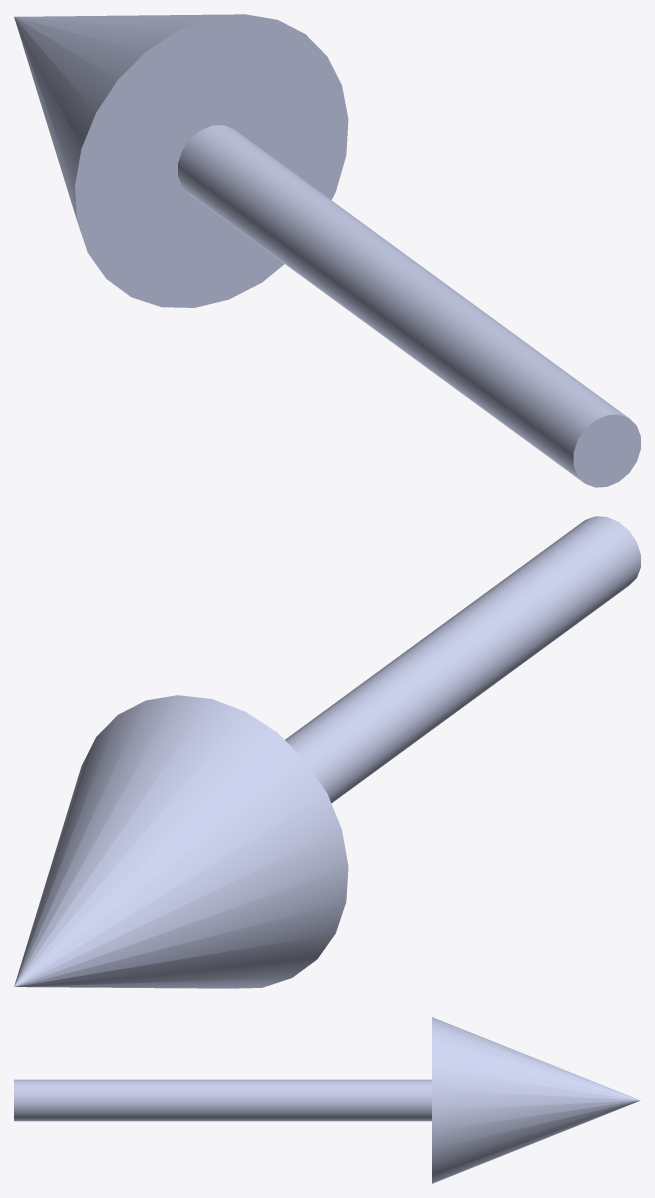
The model's file is ExpArrowEje.FBX.
3 renders of one model, top to bottom at view 1: azimuth 30°, elevation 25°; view 2: azimuth 150°, elevation 25°; view 3: azimuth 270°, elevation 25°, orthographic. The views are drawn at different scales.
Parts seen in each view (by area): view 1: Revolución1; view 2: Revolución1; view 3: Revolución1.
Part boxes in pixels (<box>): Revolución1: <box>14,14,640,487</box>; Revolución1: <box>14,516,640,988</box>; Revolución1: <box>14,1017,640,1183</box>.
Size of the model in its own units: 1.57 by 1.57 by 5.91.
